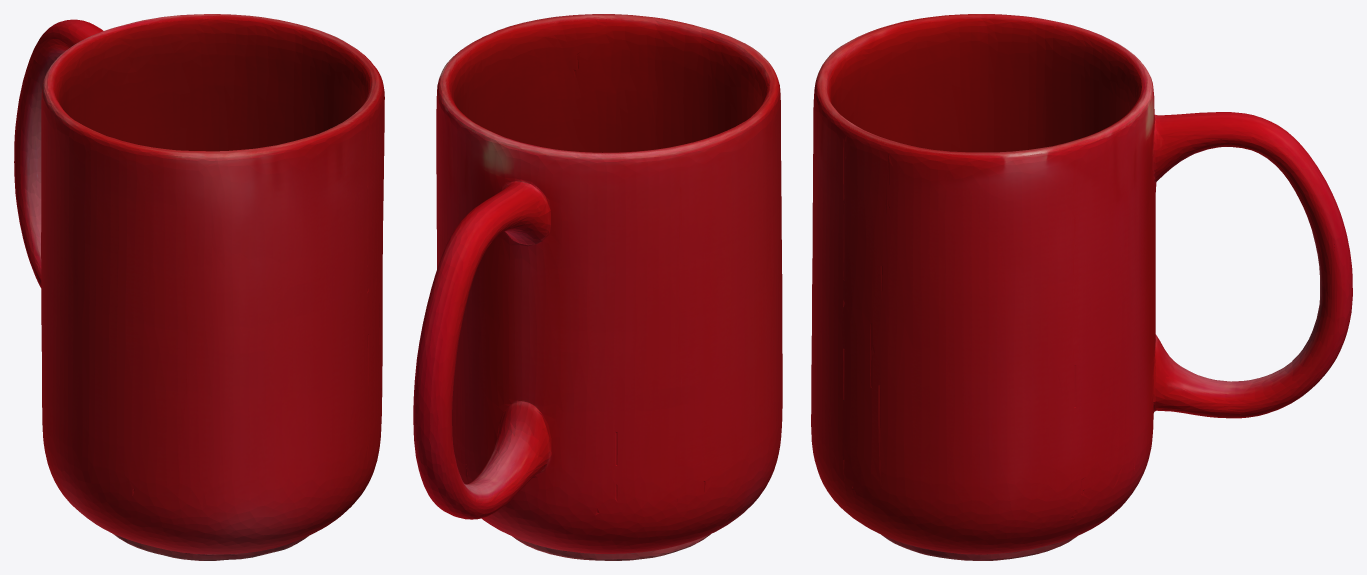
The model's file is mug_2.glb.
The picture shows the model from 3 angles, left to right: view 1: azimuth 30°, elevation 25°; view 2: azimuth 150°, elevation 25°; view 3: azimuth 270°, elevation 25°; orthographic projection.
Parts seen in each view (by area): view 1: world; view 2: world; view 3: world.
Part boxes in pixels (x1,y1,x2,y2): world: (14,14,384,560); world: (413,14,782,560); world: (811,14,1352,560).
Bounding box in the file's own units: 0.6385 × 0.8798 × 1.
Materials: 1 (1 with a texture image).
